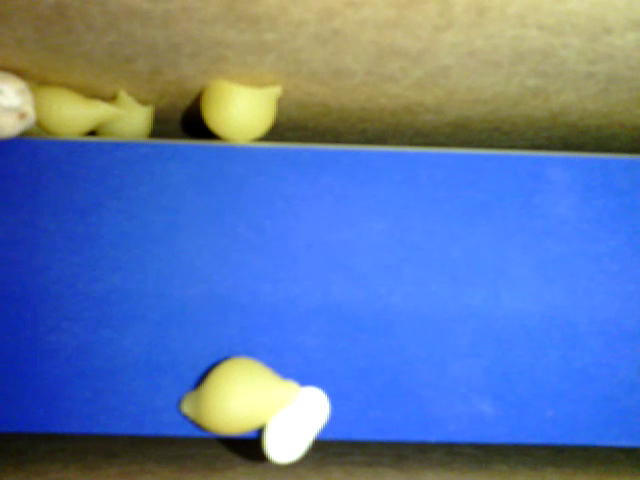shell: (180, 352, 300, 433), (22, 83, 134, 137), (198, 74, 281, 145), (97, 91, 156, 142)
